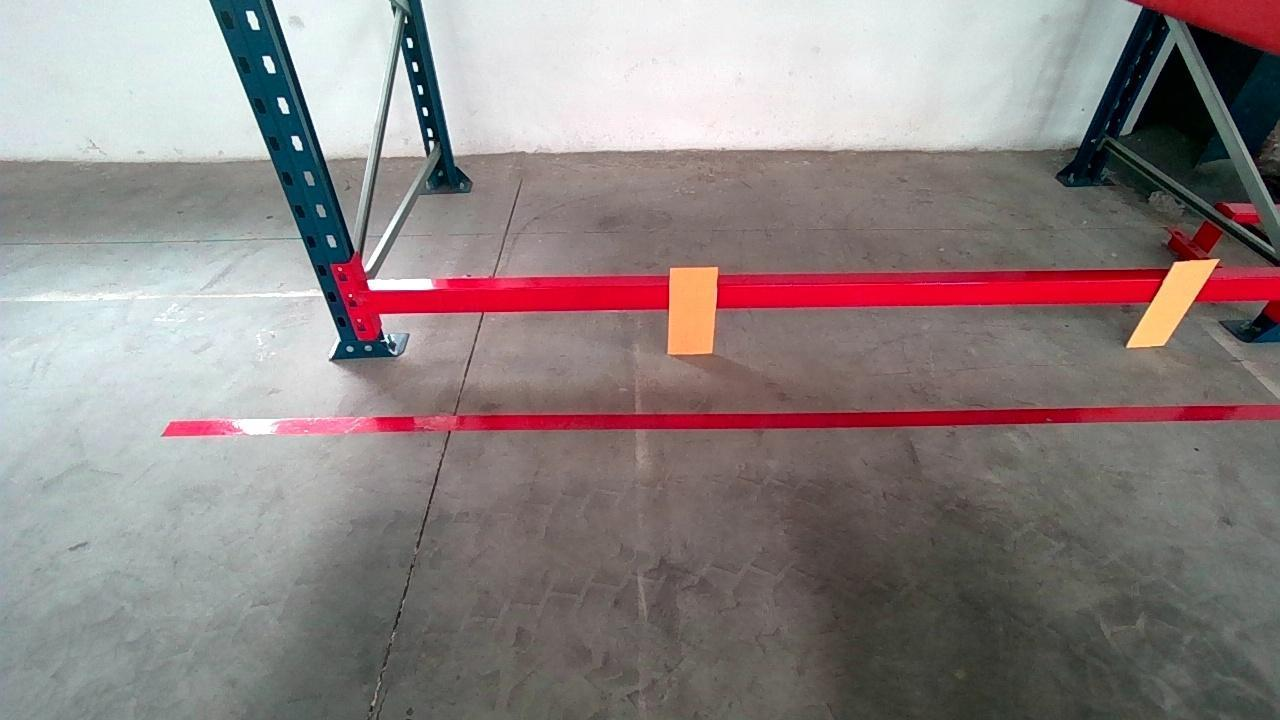h_rack: (368, 264, 1274, 312)
orange_strip: (1127, 261, 1218, 345), (668, 267, 718, 352)
red_line: (161, 398, 1275, 437)
